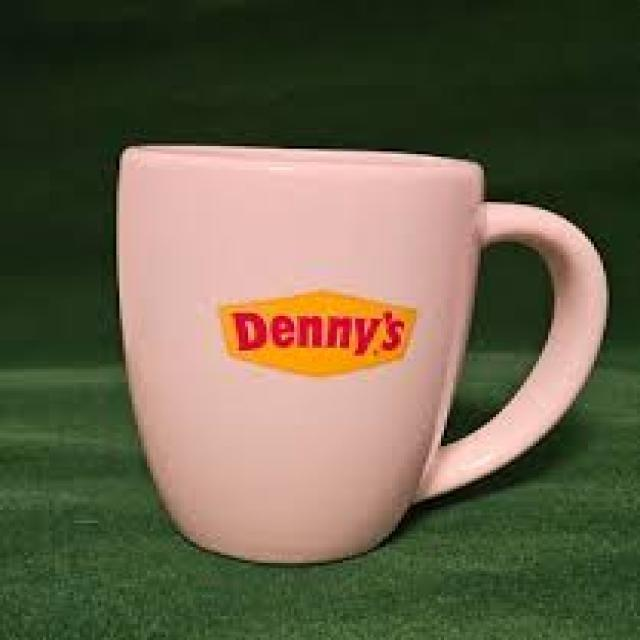taza: (116, 144, 608, 566)
